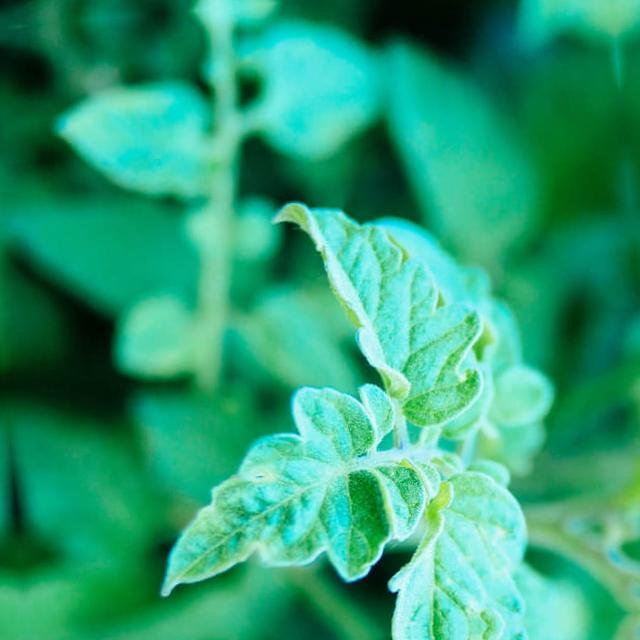Tomato leaf: (272, 161, 532, 473), (117, 399, 461, 626), (355, 450, 537, 637)
